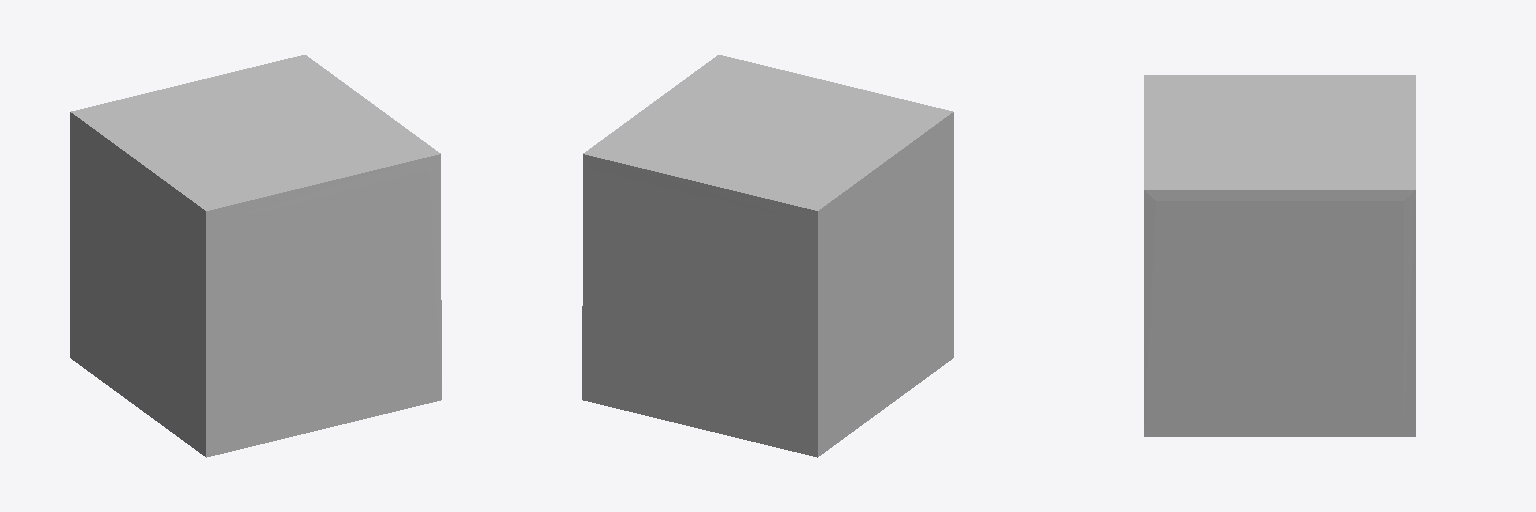
Rendered from Crate.obj.
3 renders of one model, left to right at view 1: azimuth 30°, elevation 25°; view 2: azimuth 150°, elevation 25°; view 3: azimuth 270°, elevation 25°, orthographic.
Visible parts, largest first — view 1: Cube; view 2: Cube; view 3: Cube.
Part boxes in pixels (bbox=[...]): Cube: bbox=[70, 55, 441, 457]; Cube: bbox=[582, 55, 953, 457]; Cube: bbox=[1144, 75, 1415, 436].
Bounding box in the file's own units: 1 × 1 × 1.